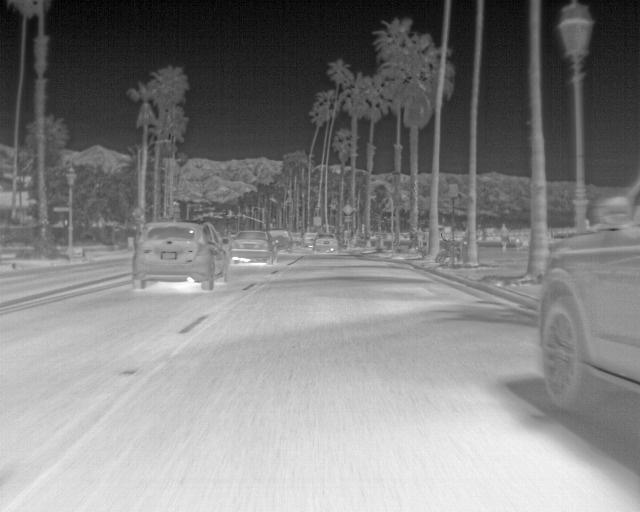bicycle: (537, 180, 639, 405), (132, 223, 228, 289), (228, 229, 277, 261), (312, 232, 342, 255), (266, 229, 295, 252)
empty: (498, 222, 513, 251)
